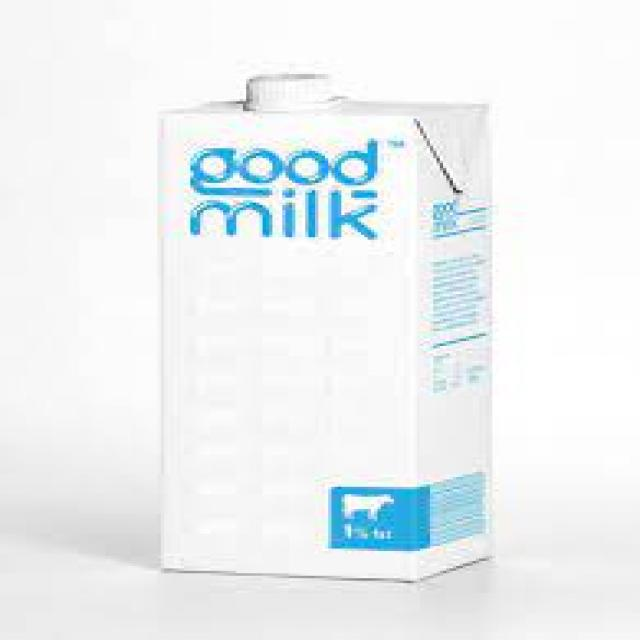non_white_jug: (146, 62, 530, 605)
